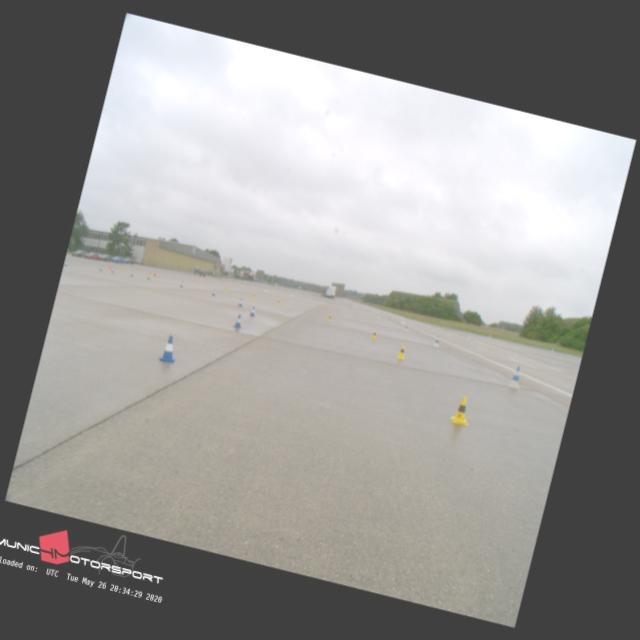blue_cone: (157, 333, 179, 362), (232, 312, 244, 328), (248, 305, 256, 317)
yellow_cone: (448, 392, 472, 424), (396, 344, 406, 359)
